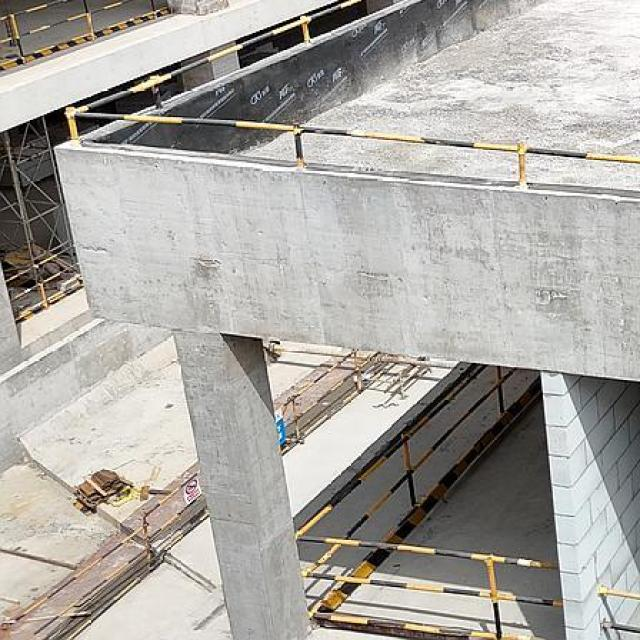Guardrail: (64, 0, 639, 184), (294, 364, 564, 640), (0, 0, 169, 67), (4, 244, 82, 323), (595, 585, 640, 640)
